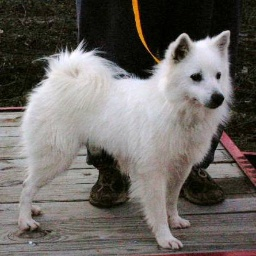dog: (12, 34, 232, 247)
